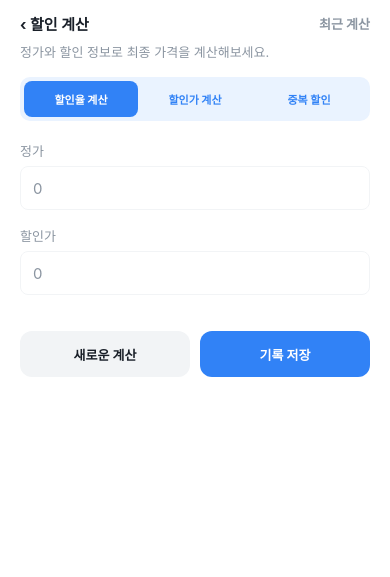
Test: DiscountScreen › computes the discounted price from regular price + rate
Click the element with test id "mode-price": (195, 100) [168,93,222,107]
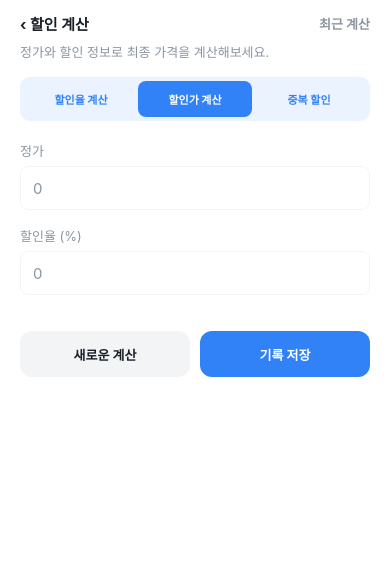
In the field with test id "input-regular-price": (195, 188) [20,166,370,210], type "10000"
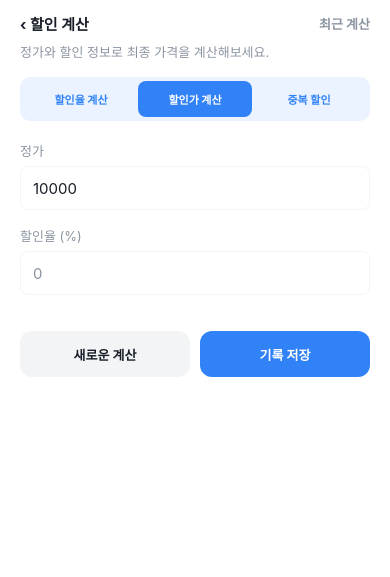
In the field with test id "input-discount-rate": (195, 273) [20,251,370,295], type "20"
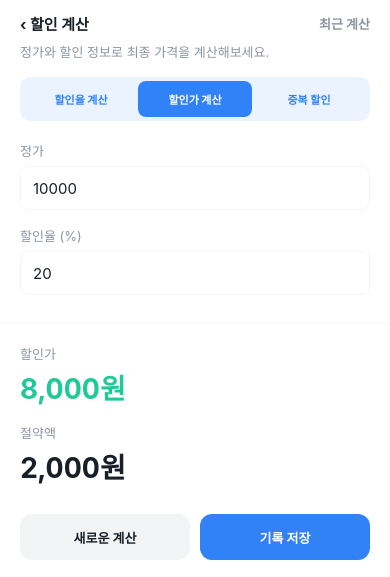
Result: the text "8,000원" is shown at [20,372,126,406]
